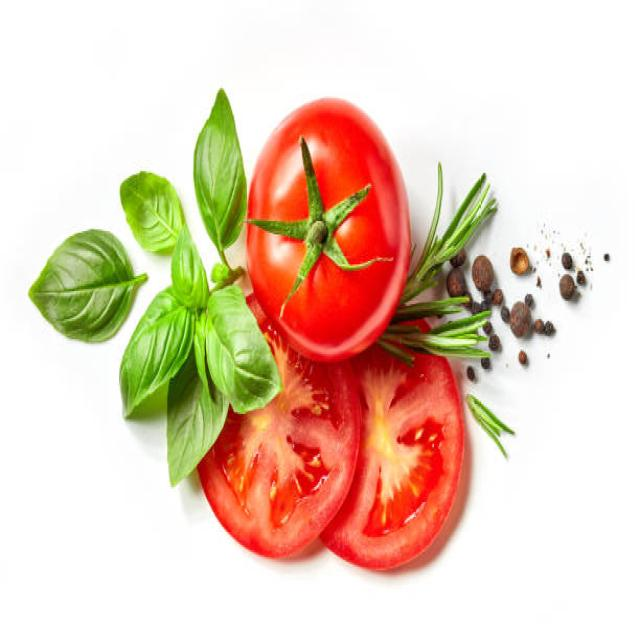Tomato: (190, 313, 398, 594), (340, 328, 507, 592)
